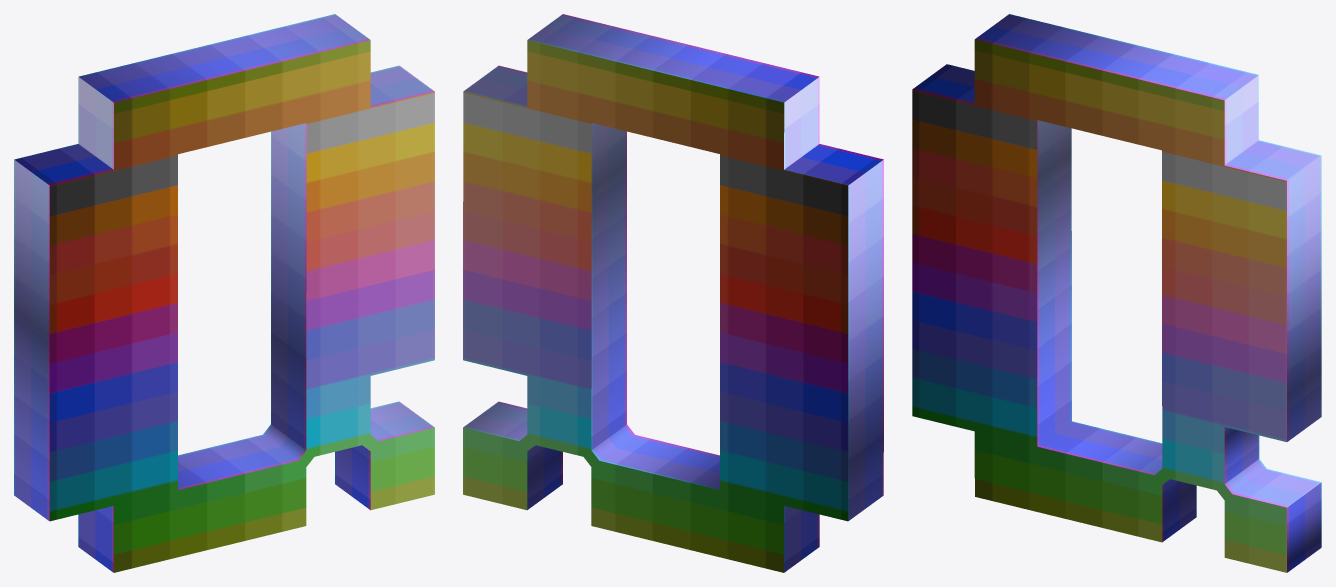
3 views of the same model, side by side, from view 1: azimuth 30°, elevation 25°; view 2: azimuth 150°, elevation 25°; view 3: azimuth 330°, elevation 25° (orthographic). The views are drawn at different scales.
Parts seen in each view (by area): view 1: q; view 2: q; view 3: q.
Part boxes in pixels (x1=…): q: x1=14, y1=14, x2=434, y2=572; q: x1=463, y1=14, x2=883, y2=572; q: x1=912, y1=14, x2=1321, y2=572.
Size of the model in its own units: 0.5 by 0.5834 by 0.0803.
1 material, 1 textured.
